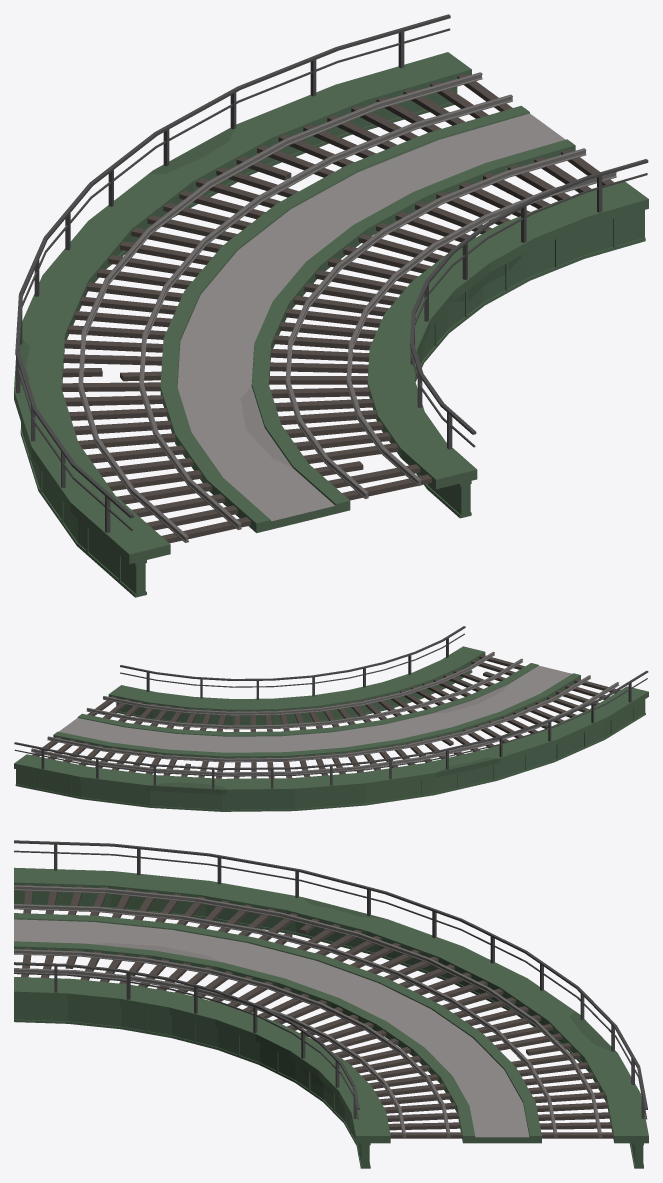
File: SM_Train_Track_Aboveground_Bridge_Steel_Corner_01.fbx
3 renders of one model, top to bottom at view 1: azimuth 30°, elevation 25°; view 2: azimuth 150°, elevation 25°; view 3: azimuth 270°, elevation 25°, orthographic. The views are drawn at different scales.
Parts seen in each view (by area): view 1: SM_Train_Track_Aboveground_Bridge_Steel_Corner_01; view 2: SM_Train_Track_Aboveground_Bridge_Steel_Corner_01; view 3: SM_Train_Track_Aboveground_Bridge_Steel_Corner_01.
Part boxes in pixels (x1,y1,x2,y2): SM_Train_Track_Aboveground_Bridge_Steel_Corner_01: (14, 14, 648, 597); SM_Train_Track_Aboveground_Bridge_Steel_Corner_01: (14, 626, 648, 811); SM_Train_Track_Aboveground_Bridge_Steel_Corner_01: (14, 840, 648, 1168).
Bounding box in the file's own units: 2600 × 273 × 2600.
